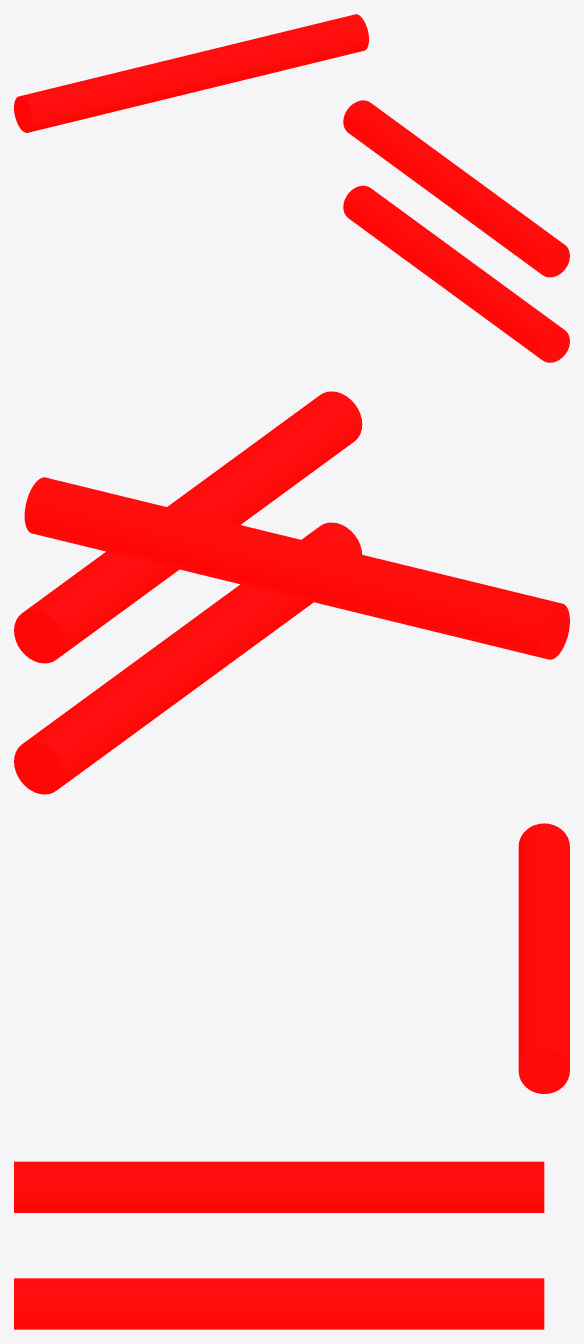
The model's file is LOT129_d816b119.glb.
The picture shows the model from 3 angles, top to bottom: view 1: azimuth 30°, elevation 25°; view 2: azimuth 150°, elevation 25°; view 3: azimuth 270°, elevation 25°; orthographic projection. The views are drawn at different scales.
Visible parts, largest first — view 1: Cylinder.003, Cylinder.001, Cylinder.005; view 2: Cylinder.003, Cylinder.001, Cylinder.005; view 3: Cylinder.001, Cylinder.005, Cylinder.003.
Boxes of the visible parts, x1,y1,x2,y2 form: Cylinder.003: (14, 14, 368, 132); Cylinder.001: (343, 185, 569, 362); Cylinder.005: (343, 100, 569, 277); Cylinder.003: (24, 477, 569, 659); Cylinder.001: (14, 522, 362, 794); Cylinder.005: (14, 391, 362, 663); Cylinder.001: (14, 1278, 544, 1329); Cylinder.005: (14, 1161, 544, 1212); Cylinder.003: (518, 823, 569, 1093).
Bounding box in the file's own units: 1.08 × 0.6 × 1.08.
